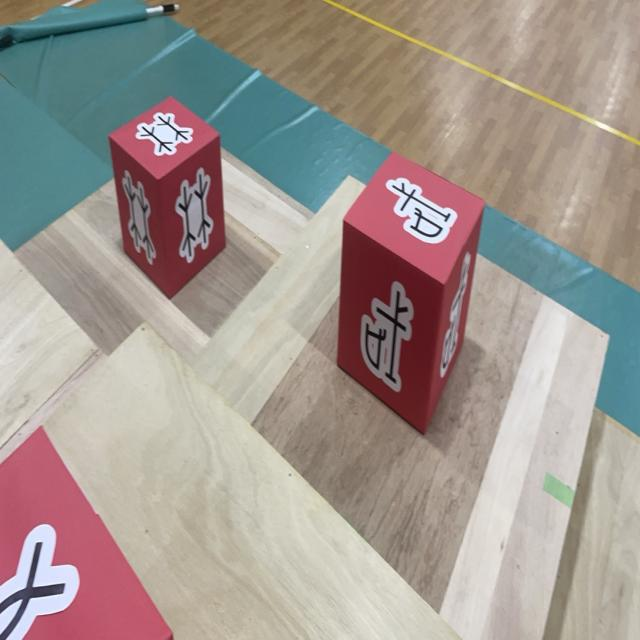5: (359, 279, 414, 391), (389, 174, 459, 245), (440, 253, 466, 379)
6: (174, 166, 214, 265), (119, 170, 157, 268), (136, 110, 194, 158)
7: (0, 523, 80, 640)
fighter: (338, 151, 485, 437), (0, 423, 171, 639), (108, 96, 226, 300)
